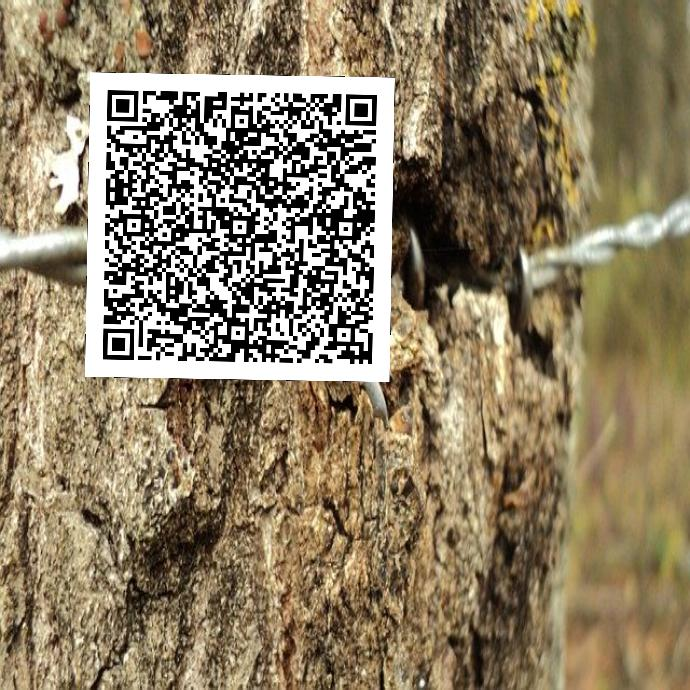qr_code: (85, 72, 394, 381)
